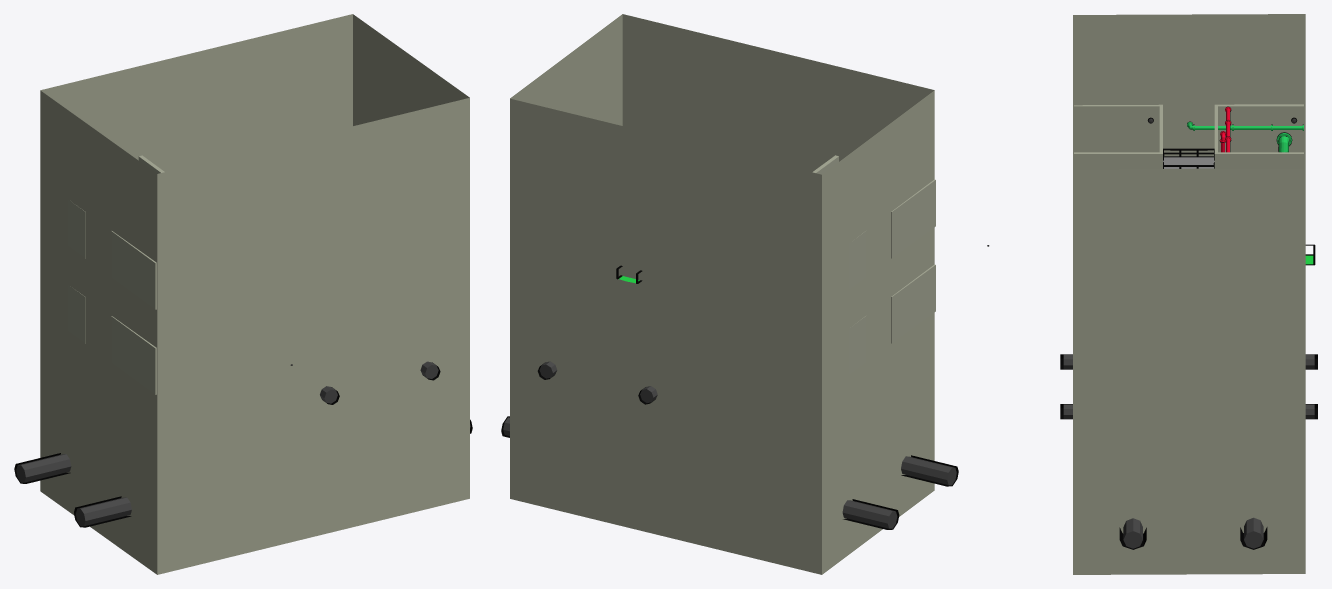
The model's file is Level 2.fbx.
3 renders of one model, left to right at view 1: azimuth 30°, elevation 25°; view 2: azimuth 150°, elevation 25°; view 3: azimuth 270°, elevation 25°, orthographic.
Visible parts, largest first — view 1: Base Reator, Cube.004, Canos; view 2: Base Reator, Cube.004, Canos; view 3: Base Reator, Cube.004, Canos, Grade.002, Chao.002.
Part boxes in pixels (x1,y1,x2,y2): Base Reator: (40, 14, 469, 574); Cube.004: (68, 155, 164, 394); Canos: (14, 361, 472, 527); Base Reator: (510, 14, 934, 574); Cube.004: (812, 155, 935, 374); Canos: (501, 361, 958, 529); Base Reator: (1073, 14, 1305, 574); Cube.004: (1074, 104, 1303, 169); Canos: (1060, 354, 1317, 549); Grade.002: (1163, 148, 1214, 168); Chao.002: (1163, 157, 1214, 168).
Bounding box in the file's own units: 7119 × 7061 × 5218.
